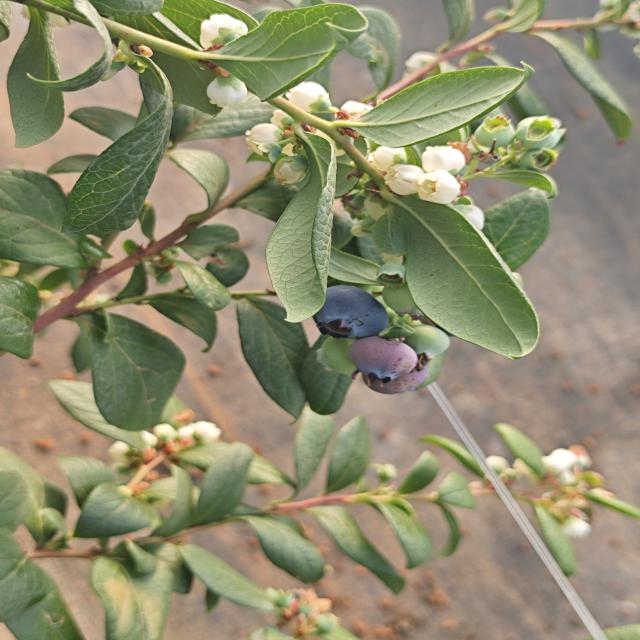ripe: (310, 284, 390, 341)
